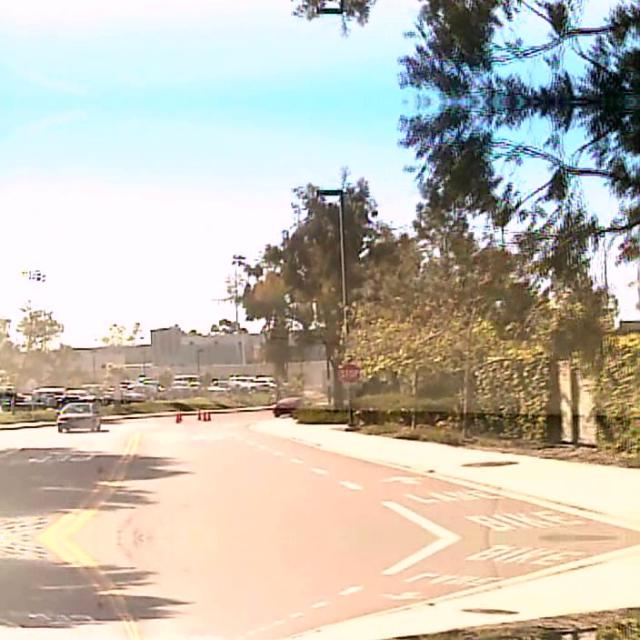stop: (338, 361, 359, 381)
